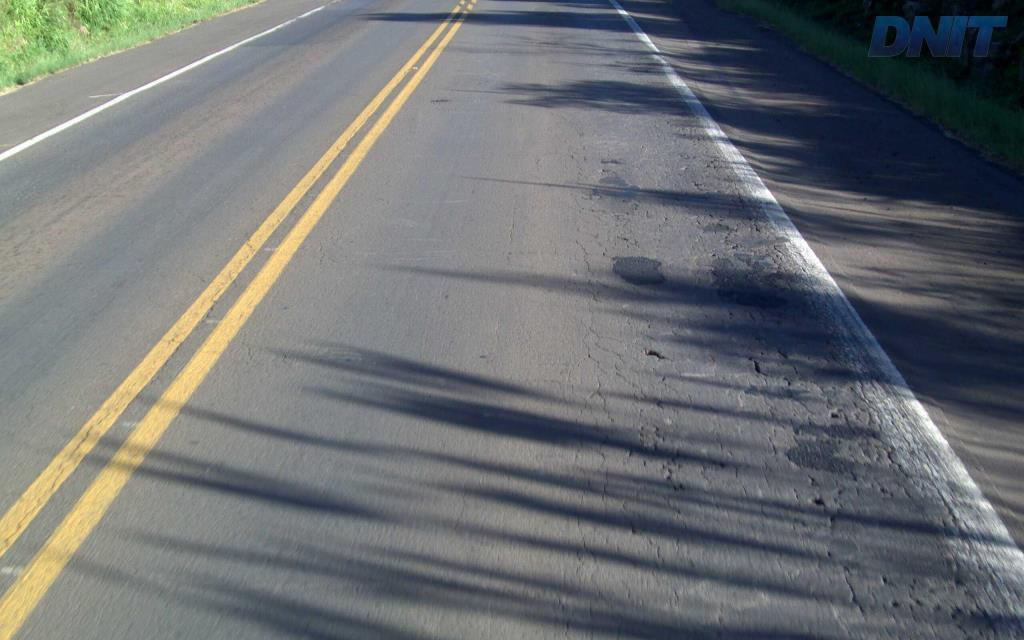crack: (599, 435, 662, 455)
pothole: (642, 347, 667, 361), (751, 361, 769, 376), (809, 493, 826, 508), (603, 158, 622, 166), (830, 410, 839, 417), (746, 354, 754, 359)
